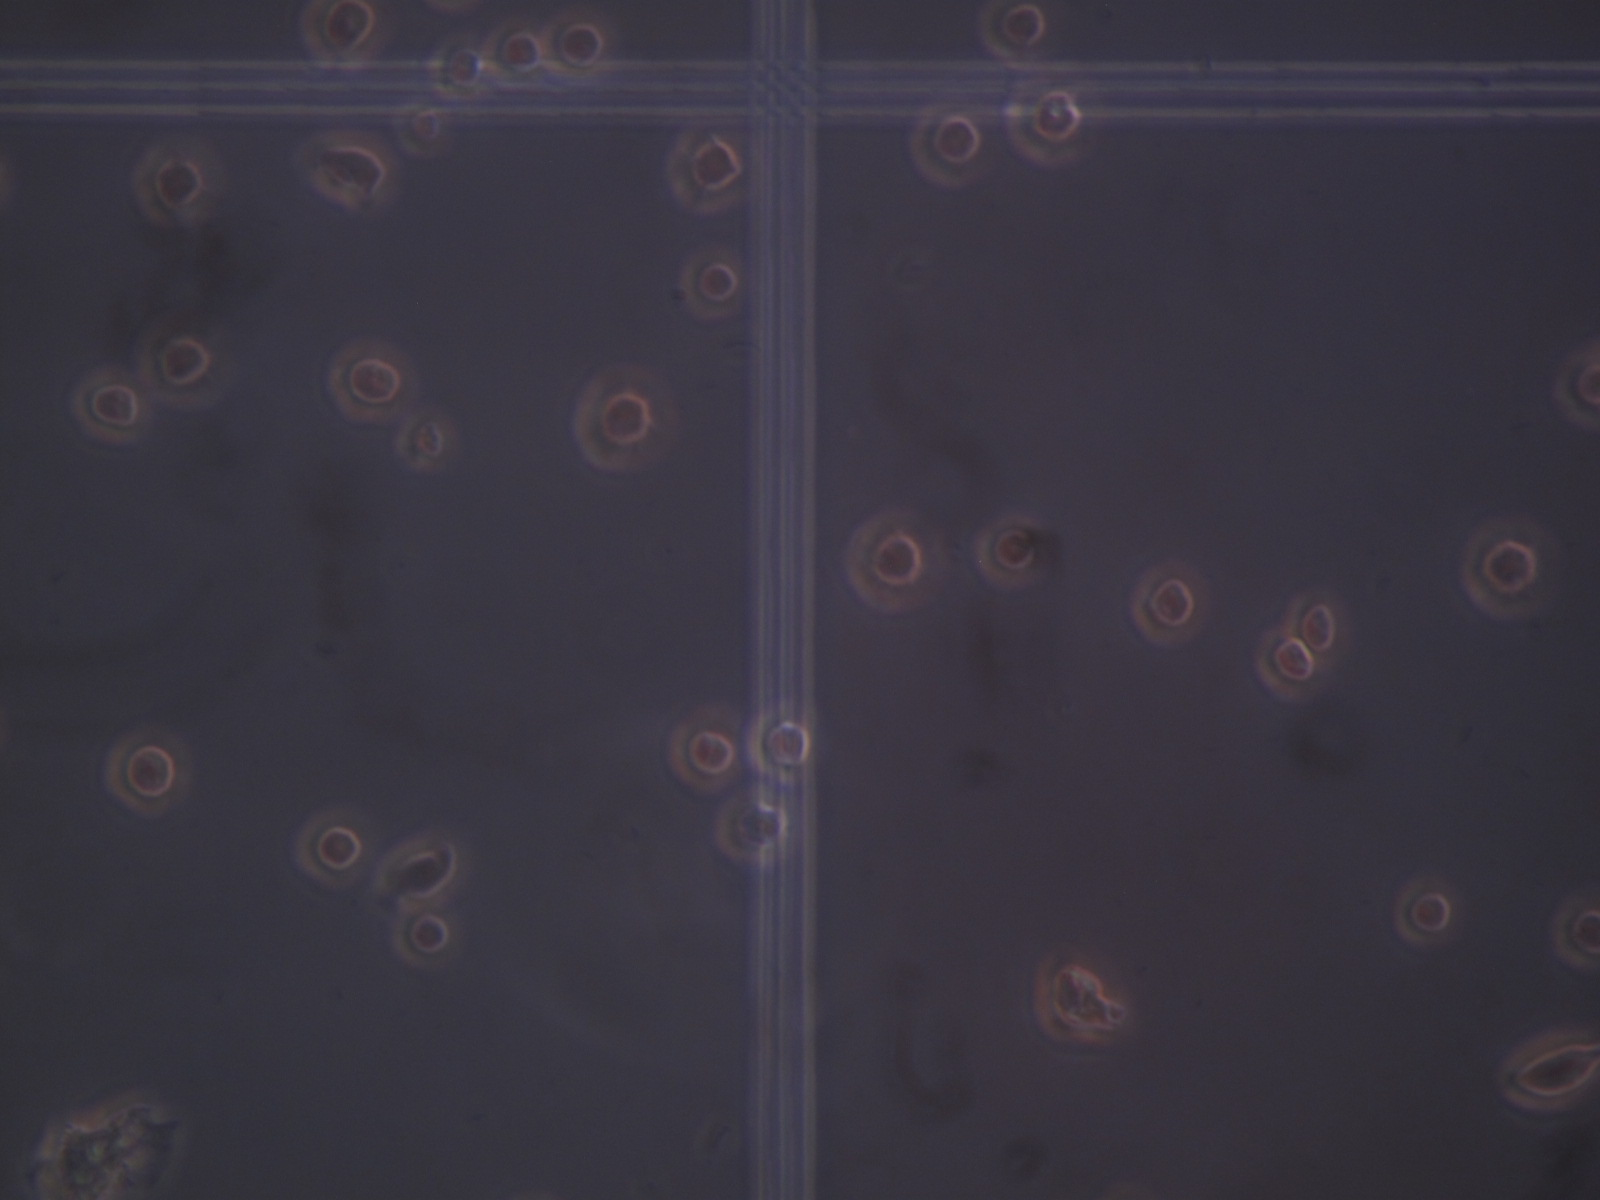hemo: (573, 364, 675, 471), (845, 509, 942, 611), (1460, 517, 1545, 619), (136, 321, 232, 410), (1498, 1029, 1599, 1112), (300, 134, 396, 211), (328, 339, 414, 424), (666, 705, 745, 793), (664, 130, 745, 214), (1004, 79, 1083, 165), (1033, 954, 1109, 1042), (910, 106, 990, 187), (103, 732, 181, 816), (1130, 562, 1207, 645), (131, 144, 208, 226), (299, 1, 387, 71), (377, 836, 460, 909), (71, 368, 149, 444), (294, 809, 367, 887), (974, 514, 1047, 587), (1254, 629, 1324, 701), (714, 795, 787, 865), (678, 246, 745, 320), (1285, 587, 1351, 662), (750, 710, 813, 784), (978, 1, 1048, 66), (543, 13, 609, 79), (391, 903, 455, 969), (483, 23, 546, 87), (1393, 879, 1454, 945), (426, 38, 489, 101), (1553, 347, 1600, 431), (396, 411, 459, 471), (1551, 895, 1600, 969), (394, 105, 446, 156)
